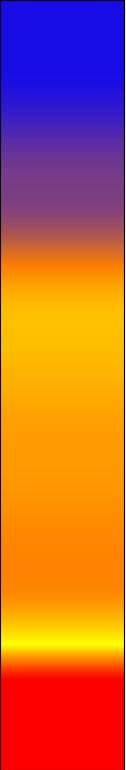Thermal Runaway: (9, 362, 119, 610), (10, 664, 118, 764), (8, 256, 115, 356), (11, 618, 116, 652)
critical: (8, 169, 116, 249)
safe: (6, 9, 119, 163)
